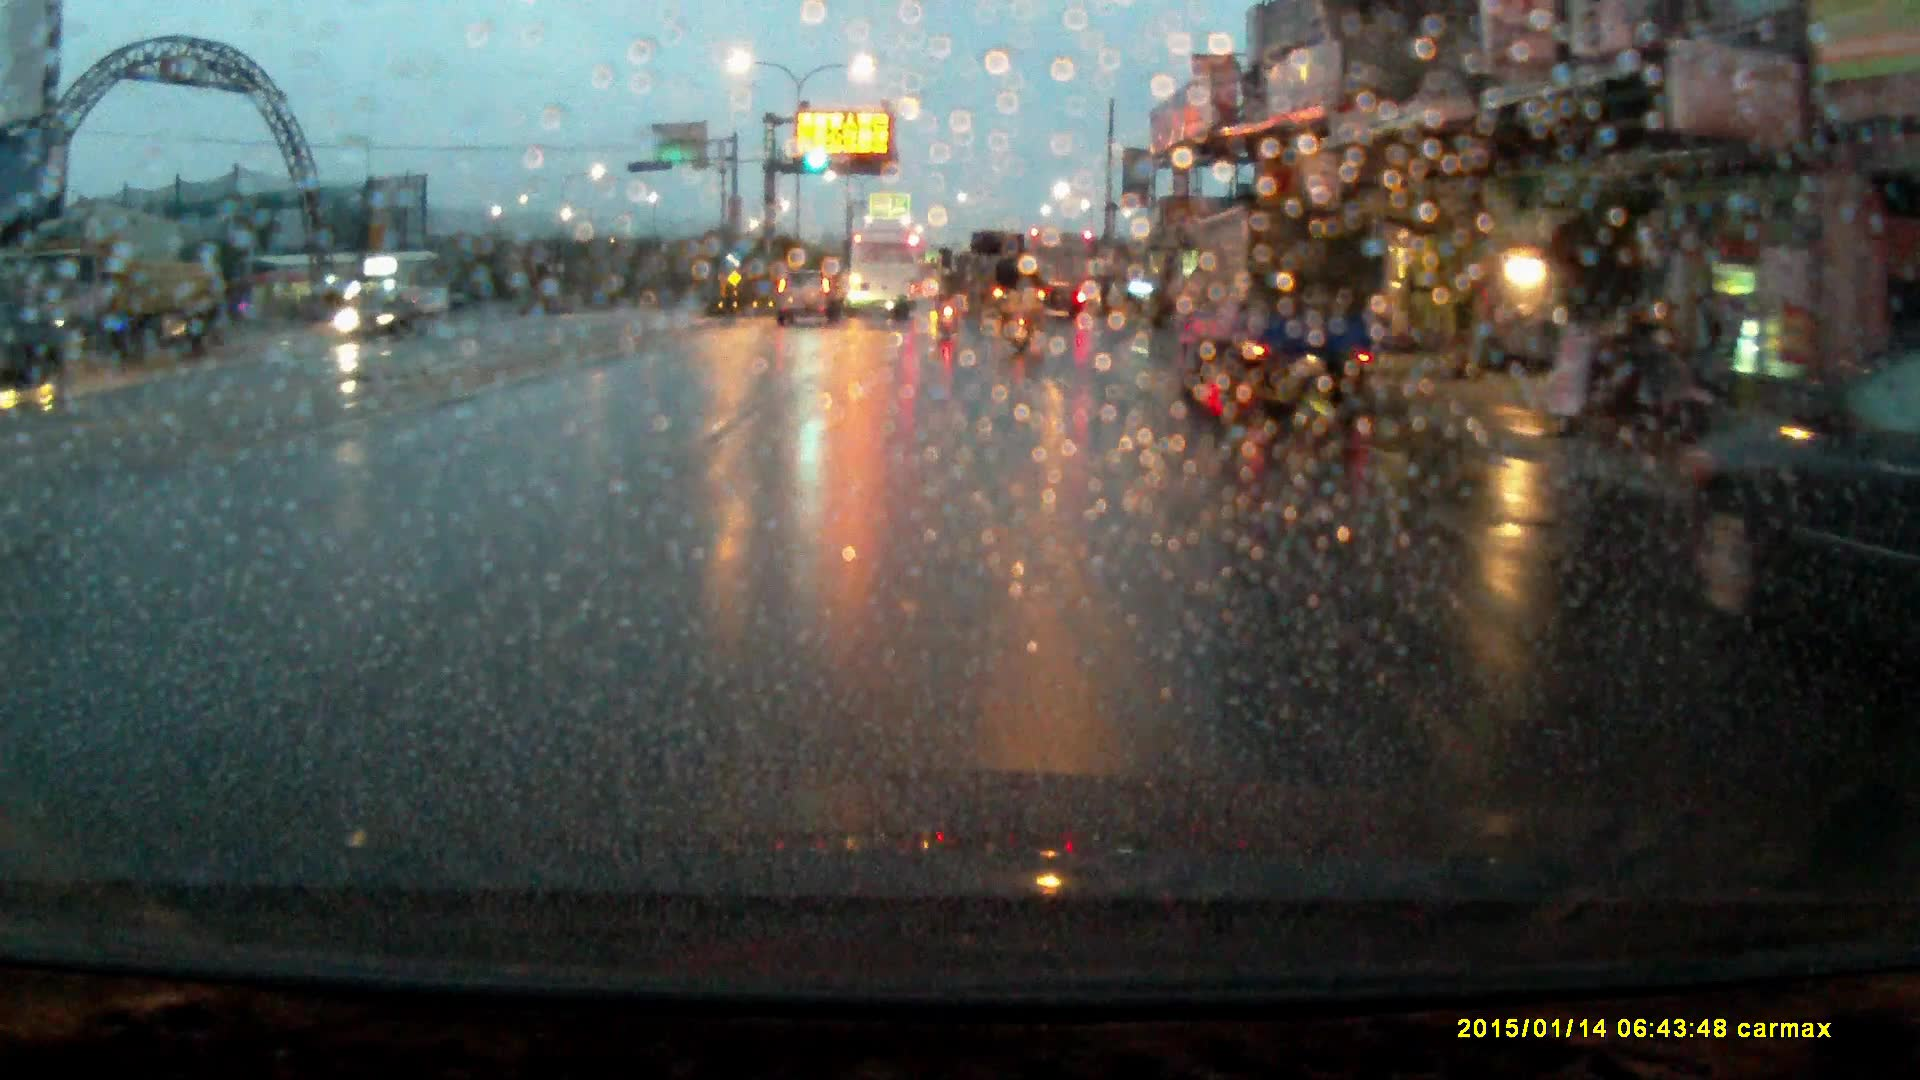rider: (1002, 276, 1043, 361), (932, 273, 963, 339)
vehicle: (1169, 209, 1397, 423), (14, 241, 230, 362), (969, 233, 1042, 324), (848, 234, 921, 323), (1032, 236, 1097, 322), (339, 287, 426, 350), (777, 269, 843, 328)
